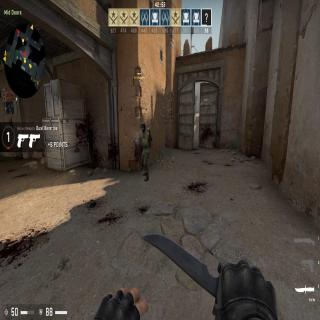CT-Body: (137, 121, 155, 181)
CT-Head: (140, 121, 146, 132)
